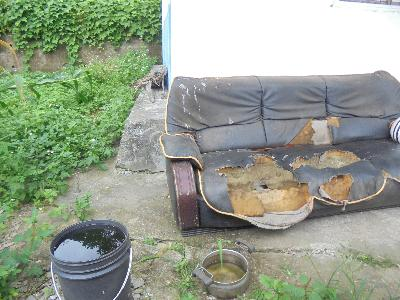bowl: (194, 246, 252, 298)
bucket: (48, 217, 133, 300)
